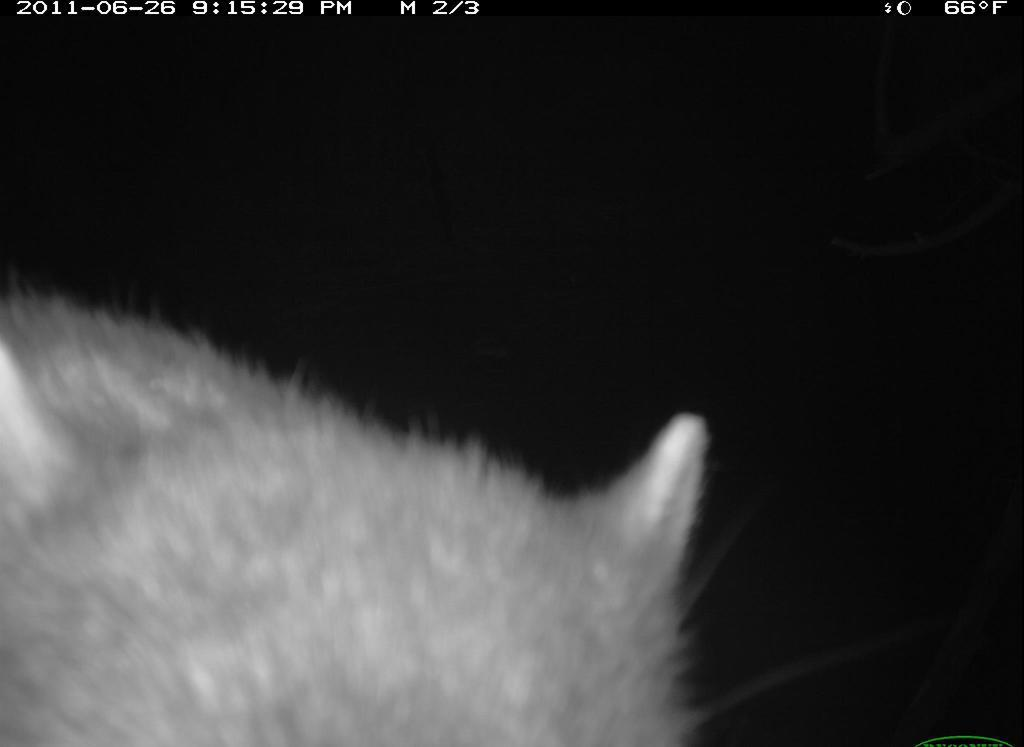raccoon: (7, 254, 765, 743)
